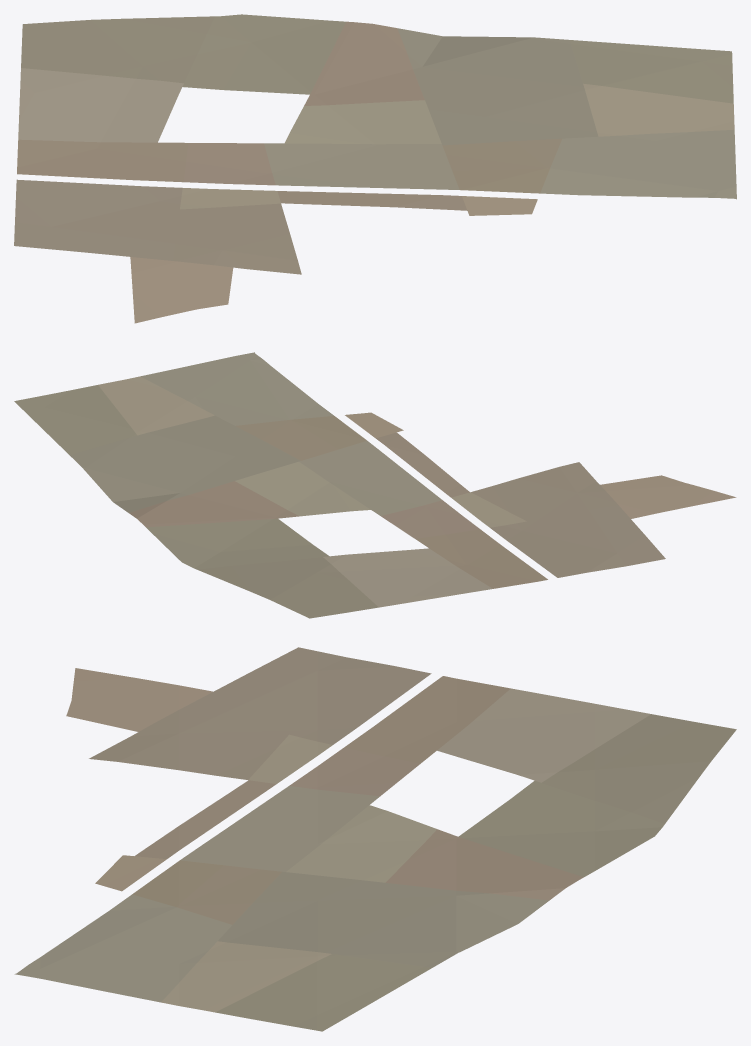
File: farm_11_5_soil.glb
The picture shows the model from 3 angles, top to bottom: view 1: azimuth 30°, elevation 25°; view 2: azimuth 150°, elevation 25°; view 3: azimuth 270°, elevation 25°; orthographic projection. The views are drawn at different scales.
Parts seen in each view (by area): view 1: geometry_0; view 2: geometry_0; view 3: geometry_0.
Boxes of the visible parts, left/top/right/bottom form: geometry_0: left=14, top=14, right=736, bottom=323; geometry_0: left=14, top=352, right=736, bottom=618; geometry_0: left=14, top=647, right=736, bottom=1031.
Size of the model in its own units: 538 by 25.05 by 417.
